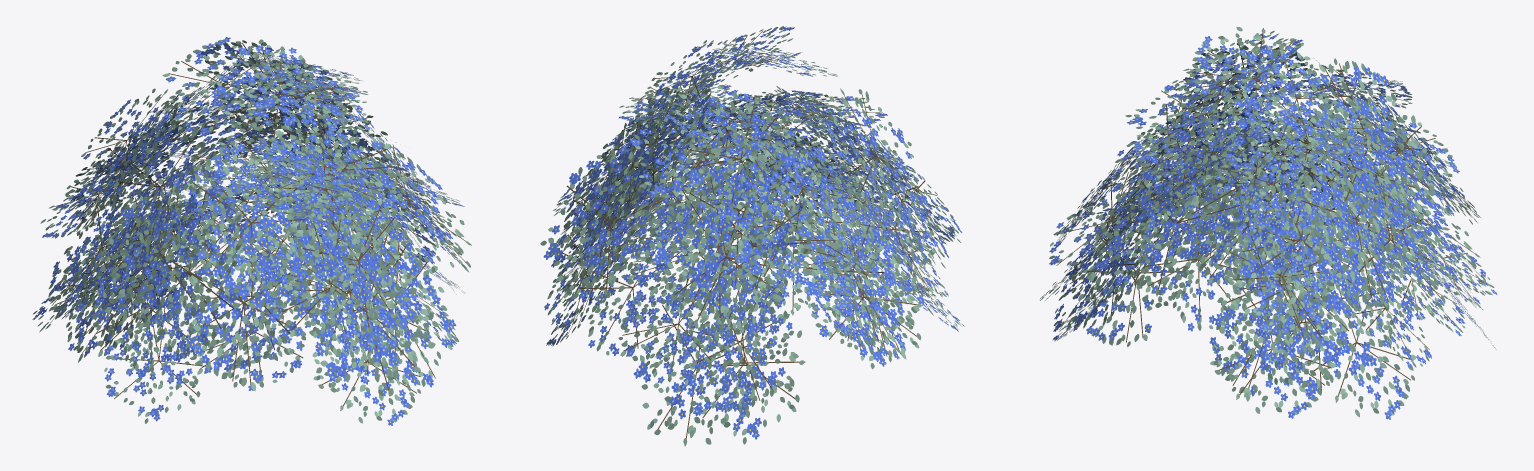
Rendered from evolvulus-glomeratus.glb.
3 views of the same model, side by side, from view 1: azimuth 30°, elevation 25°; view 2: azimuth 150°, elevation 25°; view 3: azimuth 270°, elevation 25° (orthographic). The views are drawn at different scales.
Parts seen in each view (by area): view 1: folhas; view 2: folhas; view 3: folhas.
Boxes of the visible parts, x1,y1,x2,y2 form: folhas: (32,37,471,425); folhas: (540,26,964,446); folhas: (1040,27,1496,419).
Size of the model in its own units: 0.3989 by 0.3 by 0.4.
Materials: 1 (1 with a texture image).
